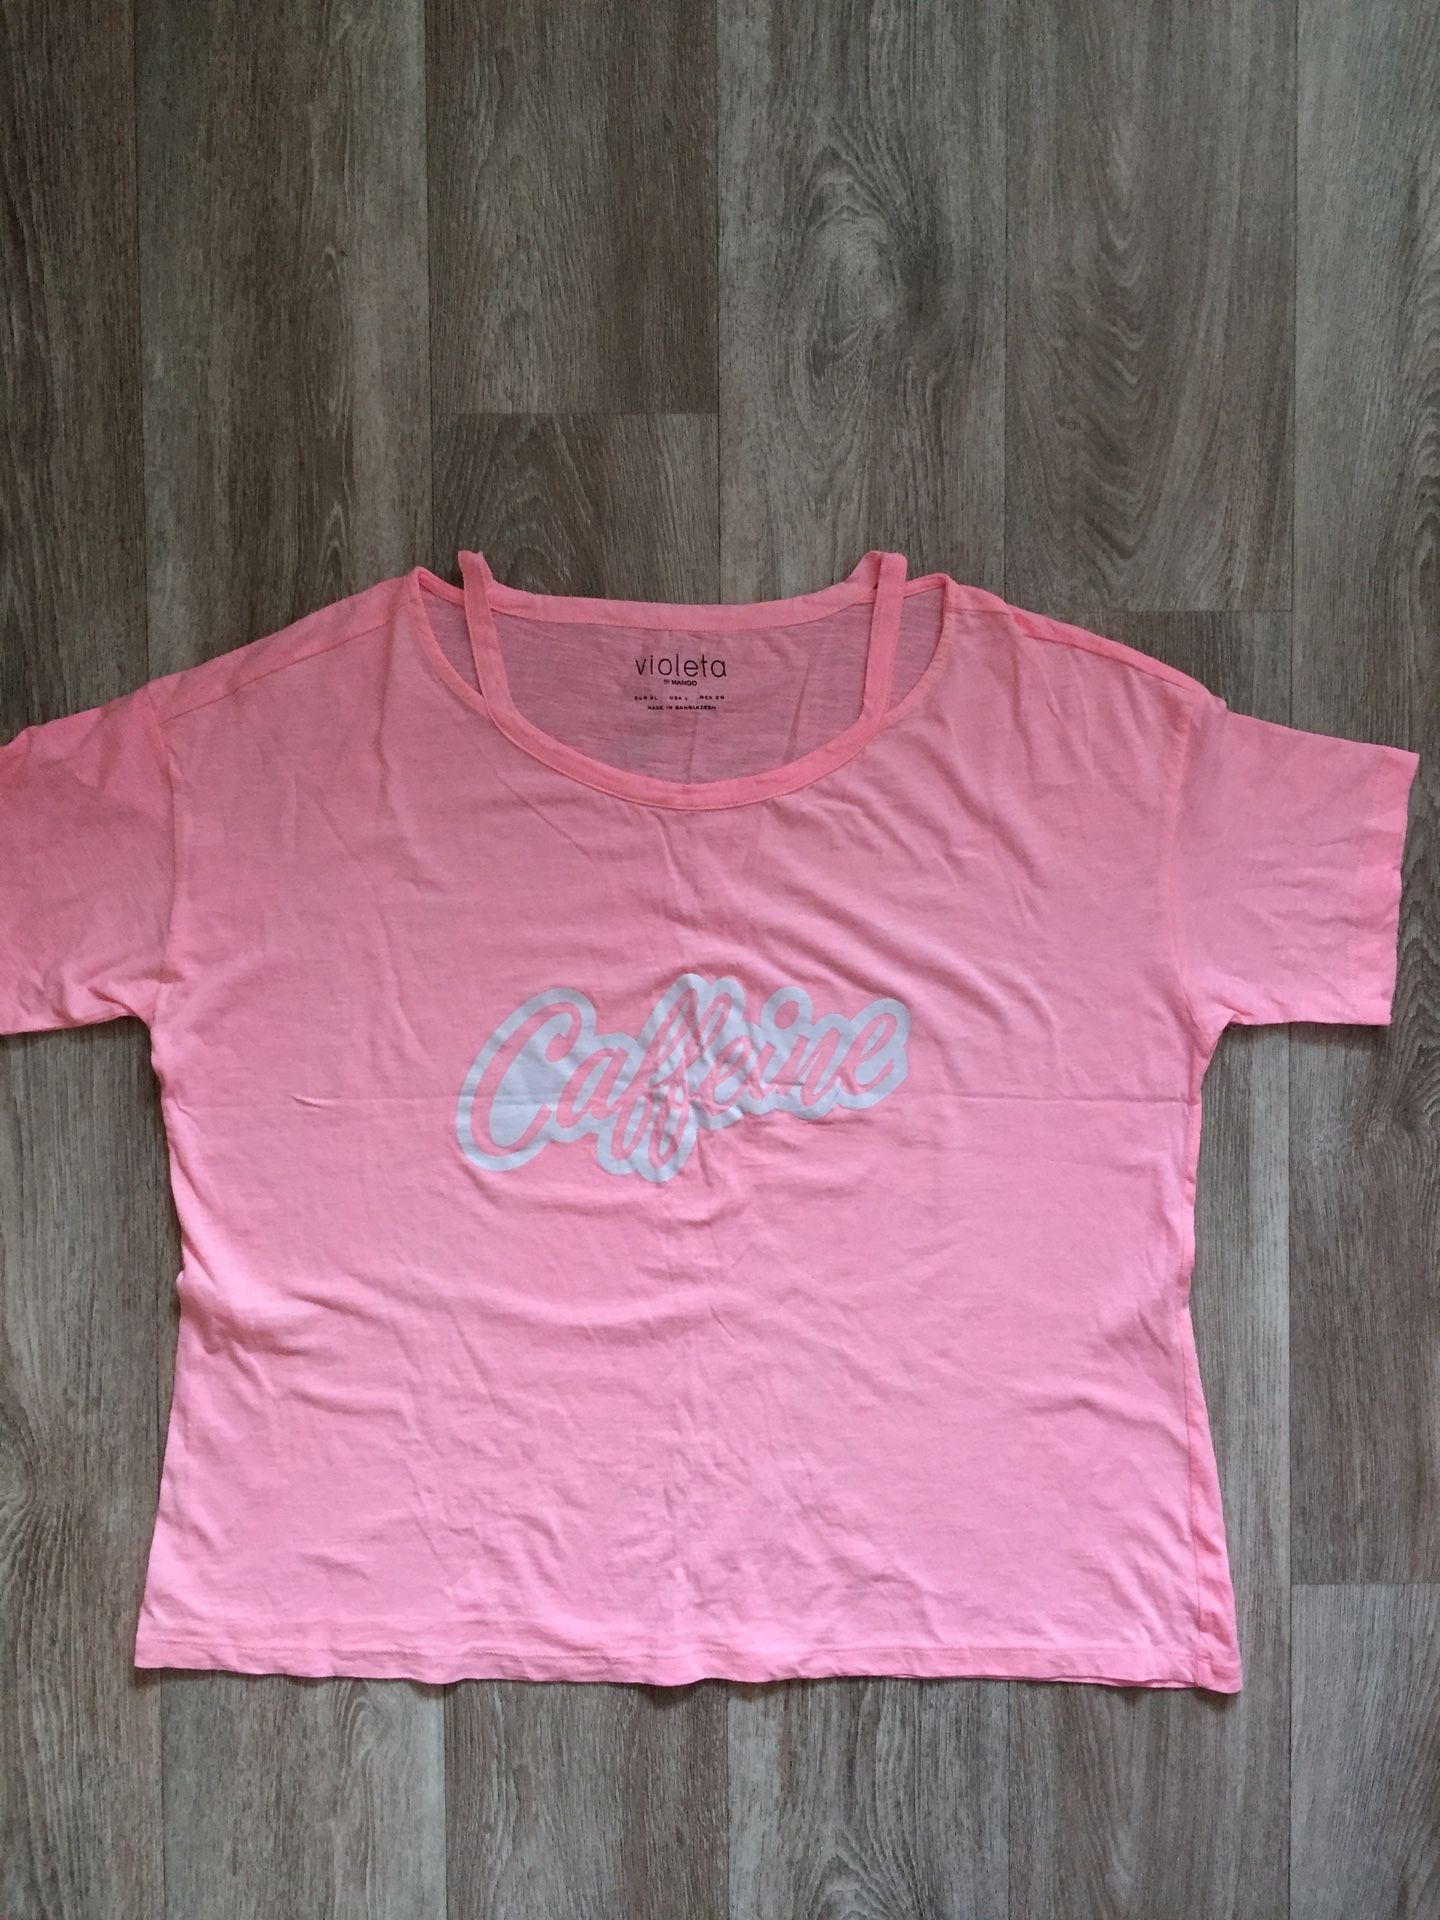clothes: (5, 556, 1407, 1696)
